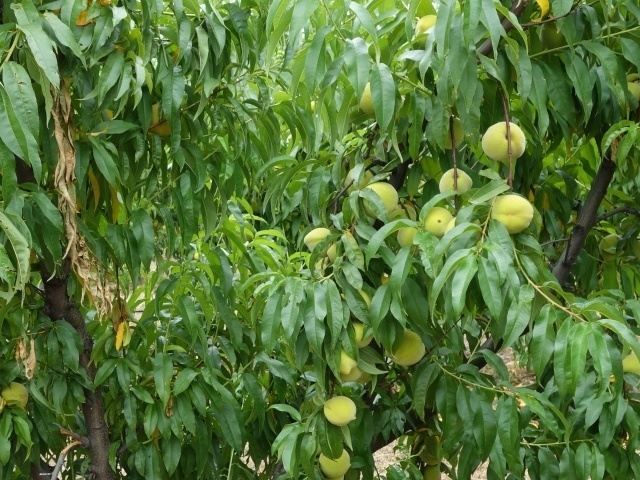peach: (476, 116, 528, 166), (487, 188, 535, 237), (385, 326, 427, 371), (359, 182, 401, 222), (434, 164, 473, 202), (321, 394, 362, 430), (418, 205, 458, 239), (316, 444, 353, 476), (408, 5, 443, 38), (395, 219, 427, 255), (303, 223, 336, 257), (441, 110, 468, 151), (1, 378, 30, 412), (595, 230, 624, 258)
